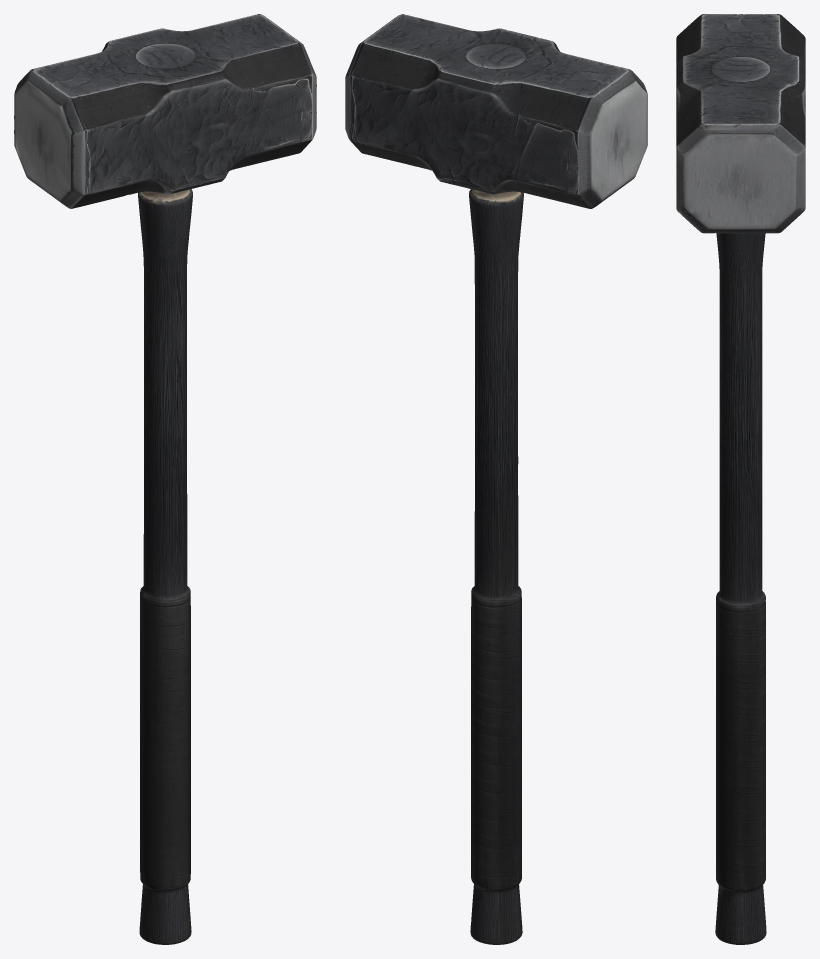
Rendered from hammer.glb.
The picture shows the model from 3 angles, left to right: view 1: azimuth 30°, elevation 25°; view 2: azimuth 150°, elevation 25°; view 3: azimuth 270°, elevation 25°; orthographic projection.
Visible parts, largest first — view 1: Mesh_0; view 2: Mesh_0; view 3: Mesh_0.
Boxes of the visible parts, left/top/right/bottom form: Mesh_0: left=14, top=14, right=316, bottom=944; Mesh_0: left=345, top=14, right=647, bottom=944; Mesh_0: left=676, top=14, right=805, bottom=944.
Size of the model in its own units: 0.554 by 1.9 by 0.2572.
1 material, 1 textured.
